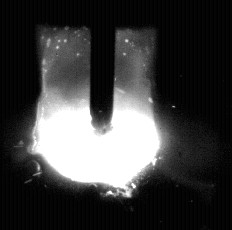arame: (91, 0, 115, 137)
poca: (33, 0, 161, 230)
